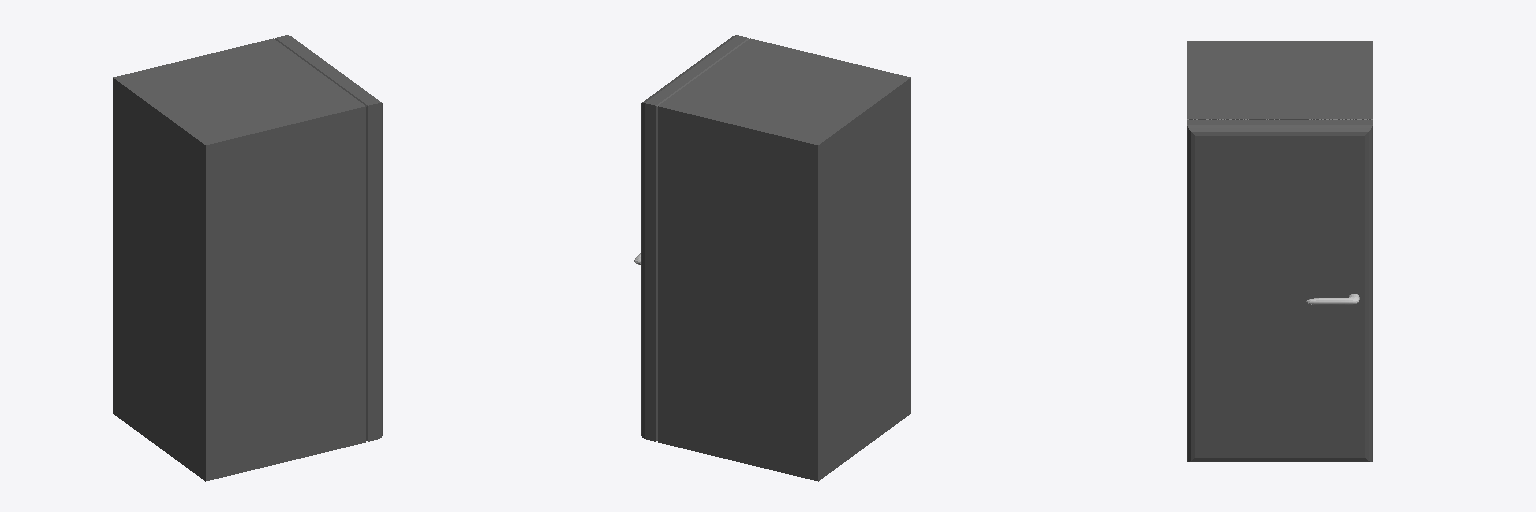
File: fridge.obj
3 renders of one model, left to right at view 1: azimuth 30°, elevation 25°; view 2: azimuth 150°, elevation 25°; view 3: azimuth 270°, elevation 25°, orthographic.
Parts seen in each view (by area): view 1: Cube.002, Cube.003; view 2: Cube.002, Cube.003; view 3: Cube.003, Cube.002.
Boxes of the visible parts, <box> form: Cube.002: <box>113,38,365,481</box>; Cube.003: <box>275,35,382,441</box>; Cube.002: <box>658,38,910,481</box>; Cube.003: <box>641,35,748,441</box>; Cube.003: <box>1187,120,1372,461</box>; Cube.002: <box>1187,41,1372,119</box>.
Bounding box in the file's own units: 1.2 × 2 × 1.